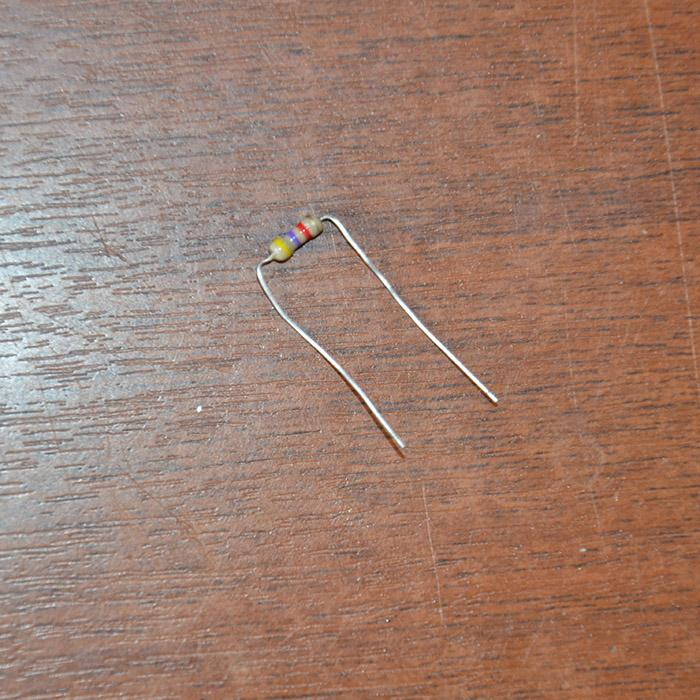resistor: (265, 214, 323, 263)
